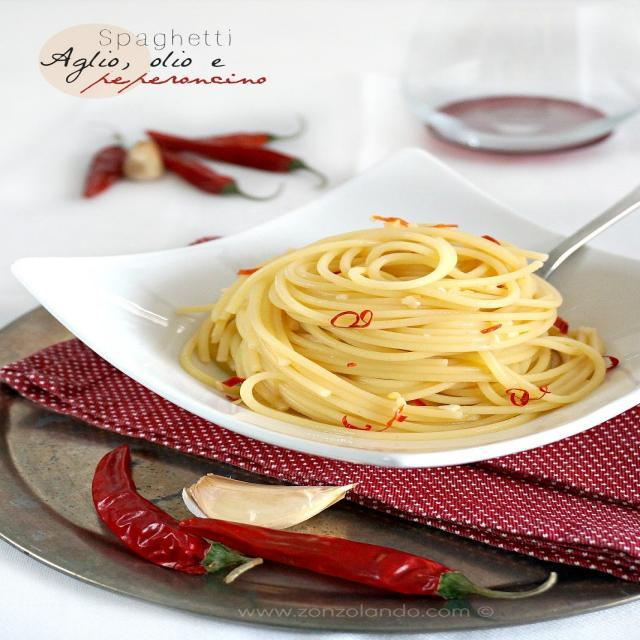Oil pasta: (72, 162, 640, 469)
